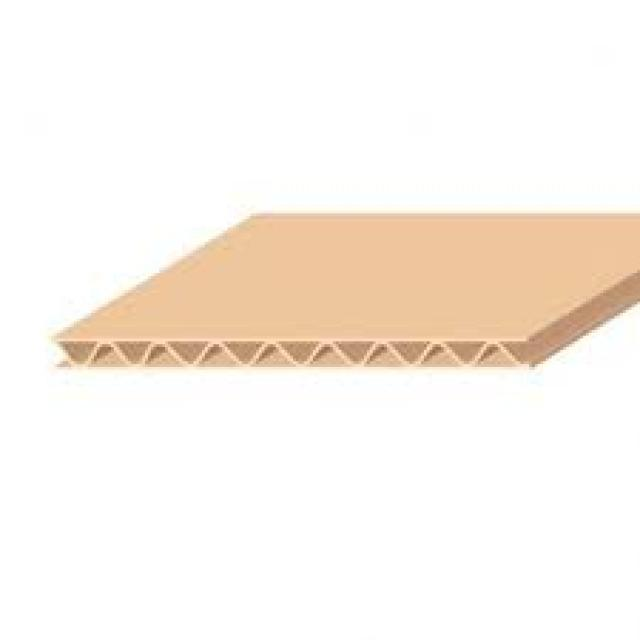Cardboard: (57, 215, 636, 369)
